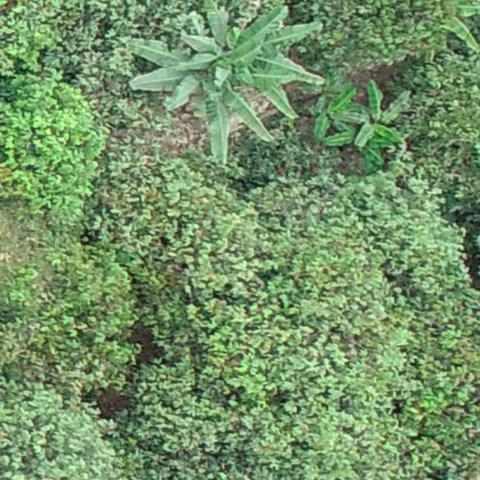Banana-plant: (127, 31, 279, 159), (180, 14, 329, 109), (342, 81, 419, 155), (311, 79, 369, 148)
